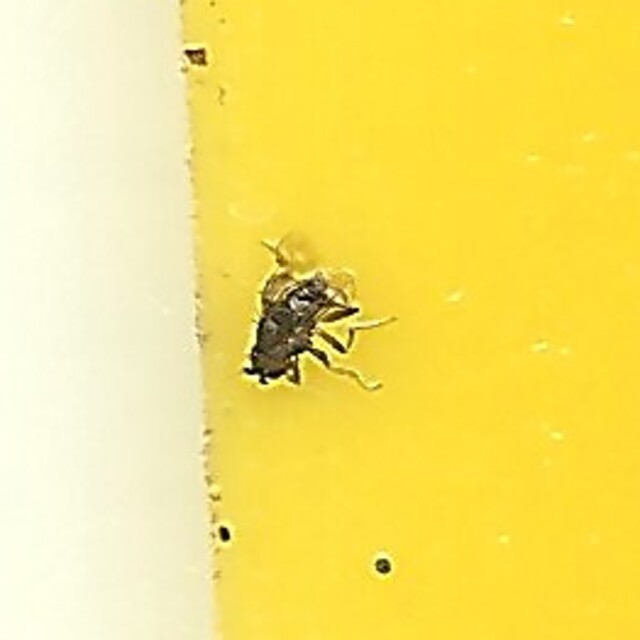Brachycera: (244, 239, 396, 401)
